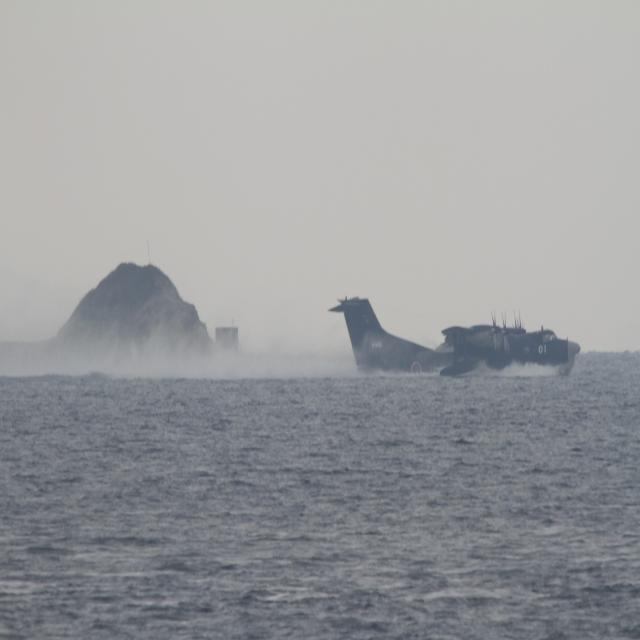MIL_Plane: (327, 295, 580, 376)
